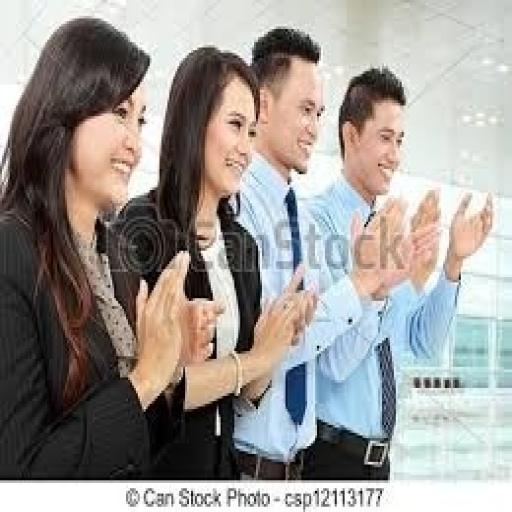clapping: (0, 14, 223, 480), (110, 42, 317, 478), (302, 64, 494, 480)
